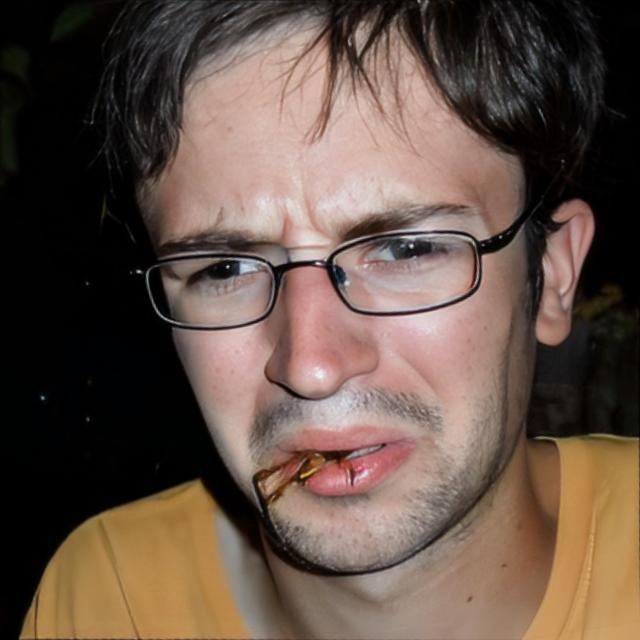disgust: (142, 0, 538, 574)
